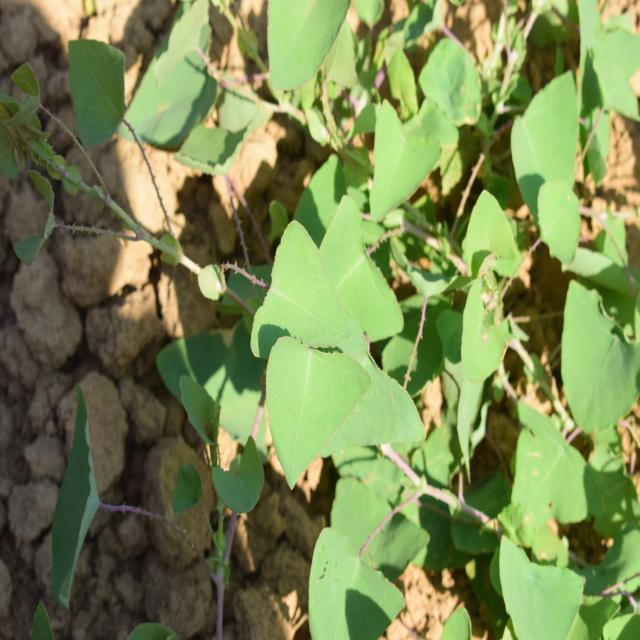Asiatic_Smartweed: (225, 190, 442, 618), (522, 9, 634, 438)
